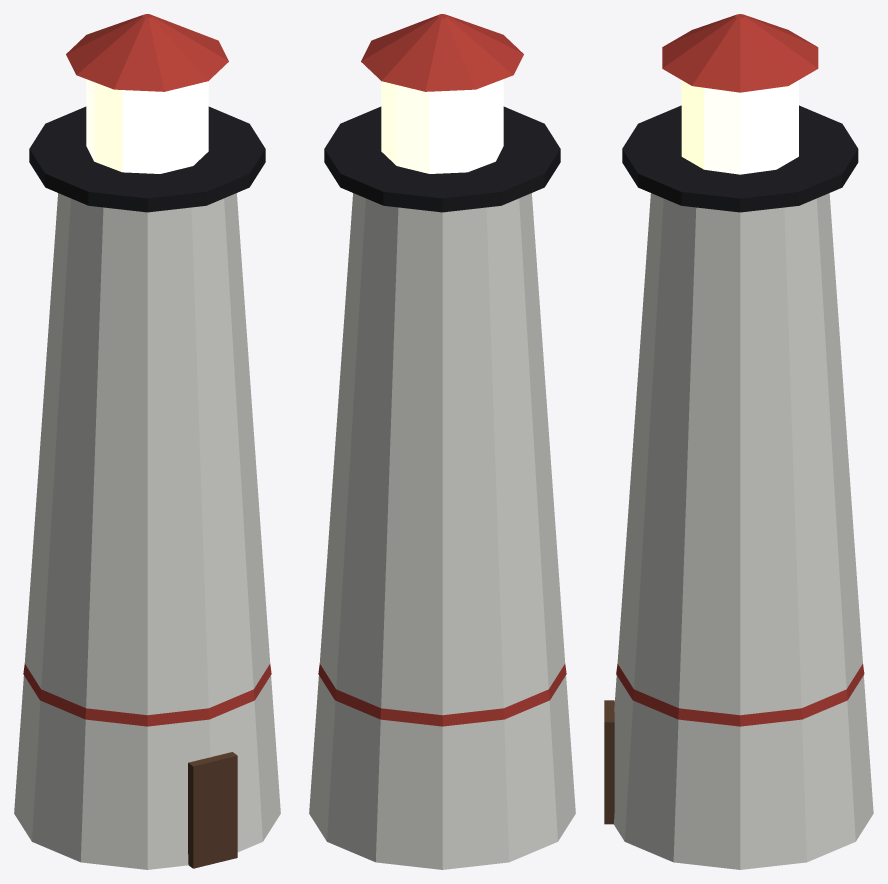
File: lighthouse.glb
3 views of the same model, side by side, from view 1: azimuth 30°, elevation 25°; view 2: azimuth 150°, elevation 25°; view 3: azimuth 270°, elevation 25° (orthographic).
Visible parts, largest first — view 1: lighthouse_Body; view 2: lighthouse_Body; view 3: lighthouse_Body.
Boxes of the visible parts, <box> form: lighthouse_Body: <box>14,14,280,869</box>; lighthouse_Body: <box>309,14,575,869</box>; lighthouse_Body: <box>604,14,873,869</box>.
Bounding box in the file's own units: 5.2 × 17.15 × 5.25.
